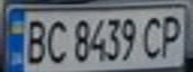3: (106, 15, 124, 62)
4: (87, 15, 109, 63)
8: (69, 16, 93, 63)
9: (118, 15, 142, 62)
B: (18, 16, 51, 66)
C: (139, 12, 169, 61), (42, 16, 69, 65)
P: (157, 11, 190, 60)
